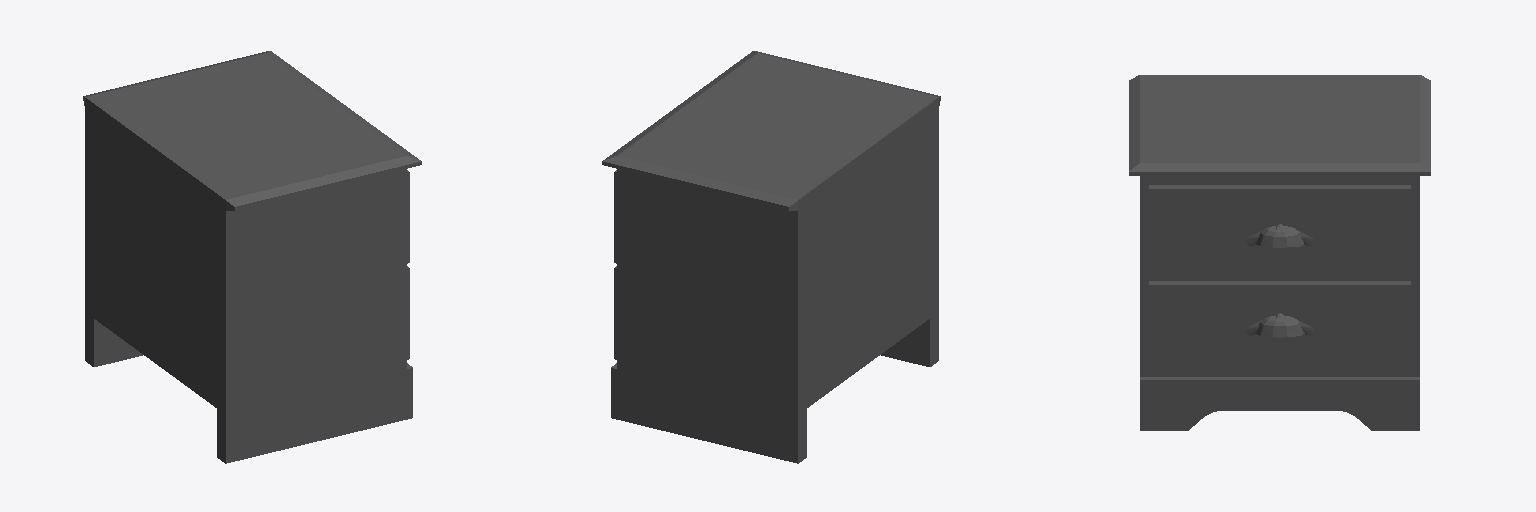
Rendered from eb_nightstand_01.obj.
3 views of the same model, side by side, from view 1: azimuth 30°, elevation 25°; view 2: azimuth 150°, elevation 25°; view 3: azimuth 270°, elevation 25° (orthographic).
Parts seen in each view (by area): view 1: b_low, a_low; view 2: b_low, a_low; view 3: a_low, b_low, c_low, d_low.
Boxes of the visible parts, <box> form: b_low: <box>83,51,421,463</box>; a_low: <box>407,170,409,359</box>; b_low: <box>602,51,940,463</box>; a_low: <box>614,170,616,359</box>; a_low: <box>1149,185,1410,375</box>; b_low: <box>1129,75,1430,376</box>; c_low: <box>1140,377,1419,430</box>; d_low: <box>1246,224,1313,337</box>.
Size of the model in its own units: 65.86 by 82.49 by 85.82.